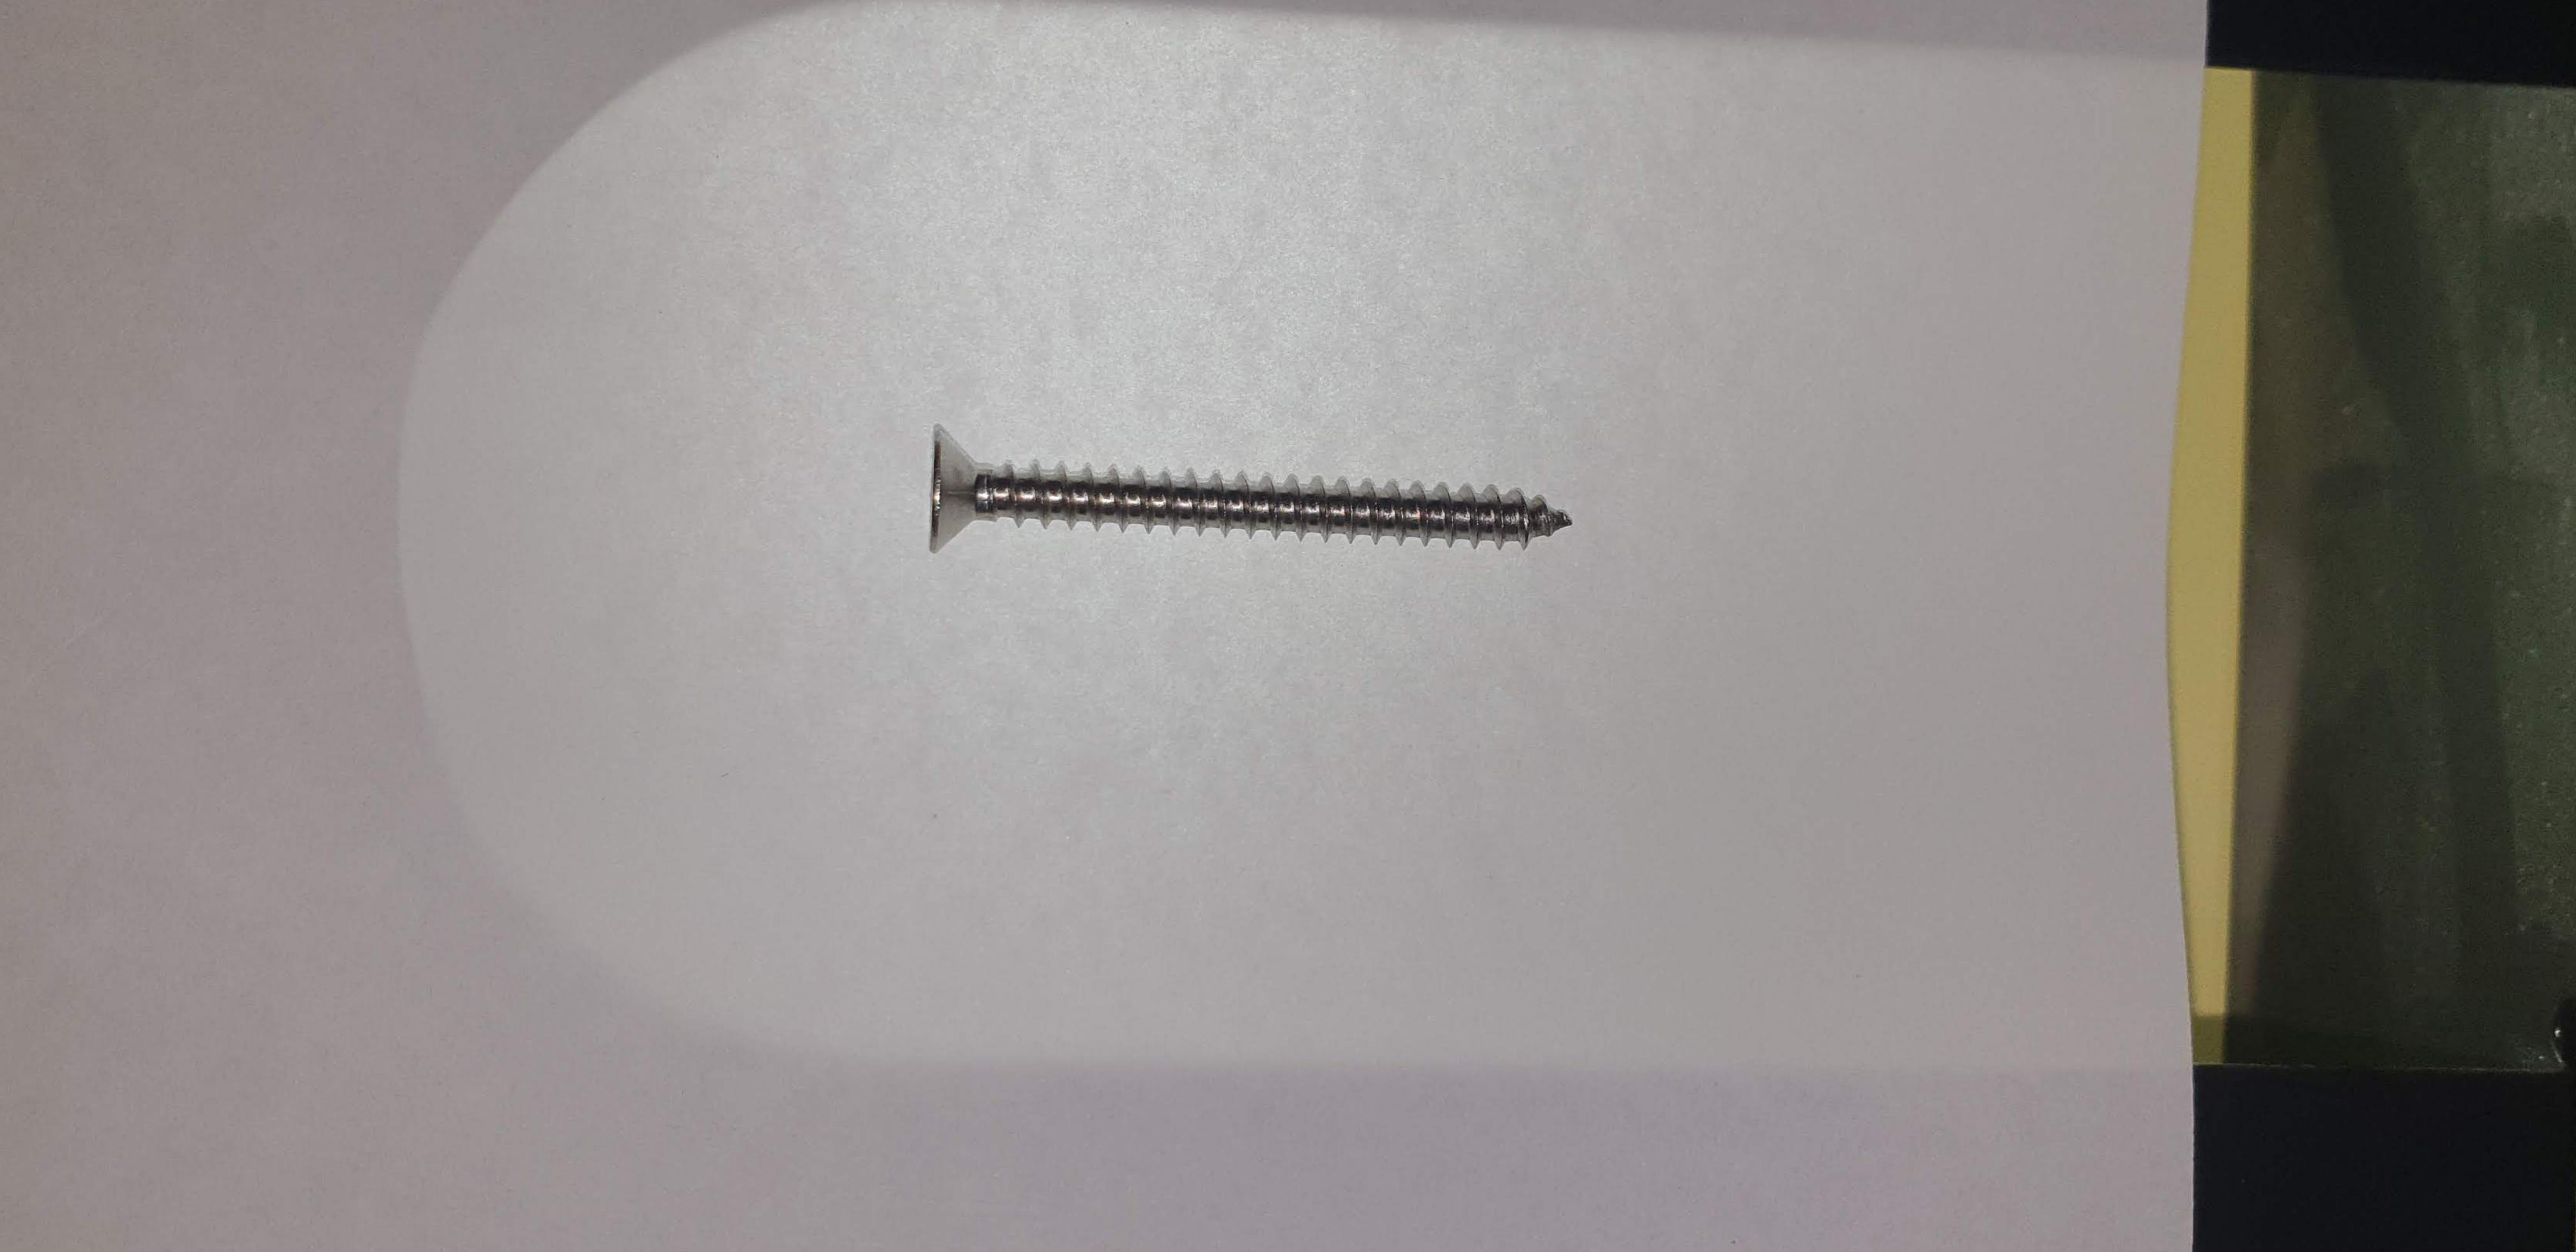fastener: (887, 365, 1684, 638)
